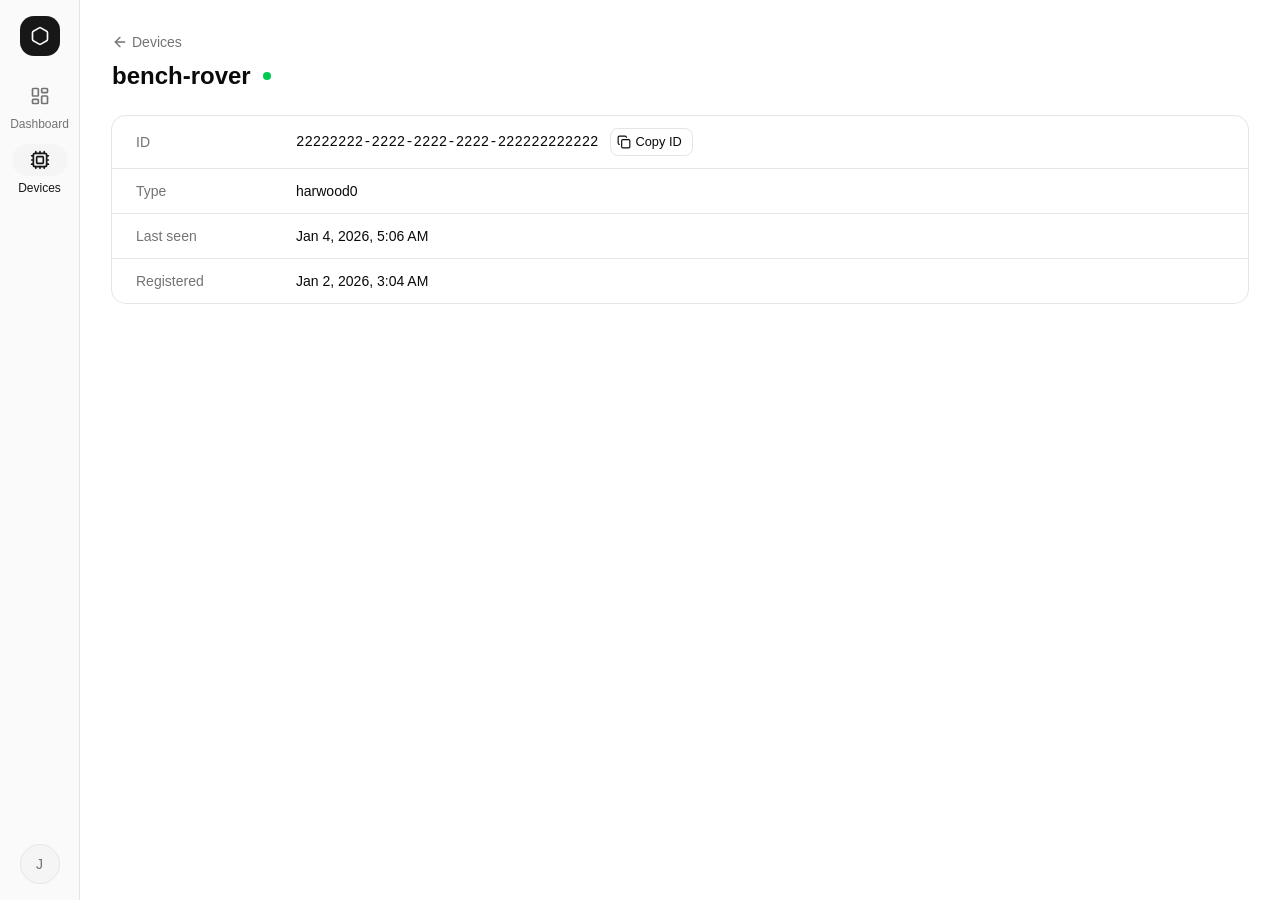
it: device details › links back to the list and keeps Devices active in the nav rail
The image size is (1280, 900).
Check: the heading "bench-rover" is shown, box [112, 60, 251, 92]
Click the 1st link "Devices": point(147, 42) [112, 32, 182, 52]
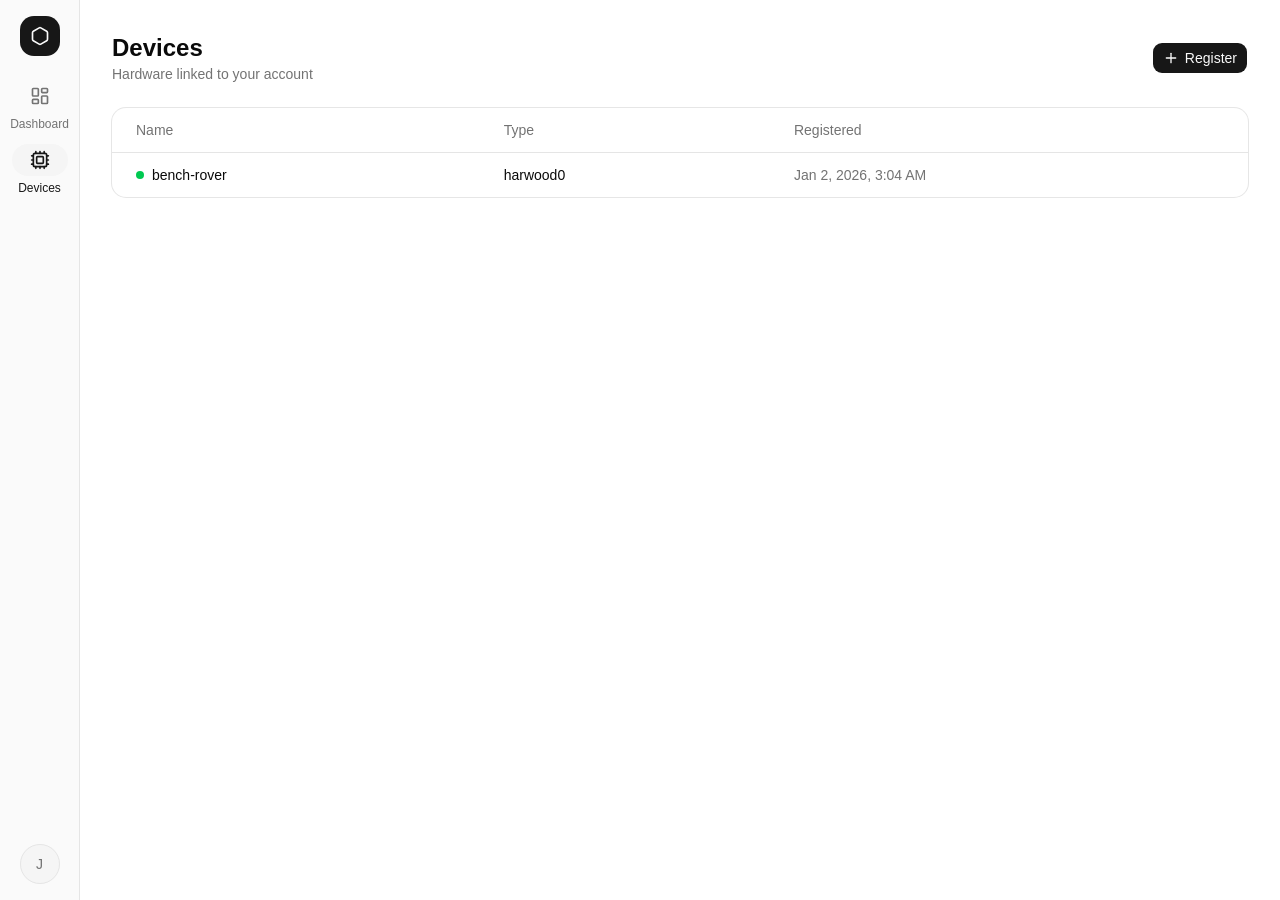
Check: the heading "Devices" is shown, box [112, 34, 203, 61]
